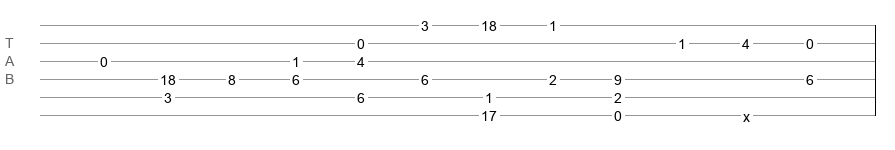0: (100, 54, 108, 64), (357, 36, 365, 46), (614, 108, 622, 118), (806, 36, 814, 46)
1: (292, 54, 300, 64), (485, 90, 493, 100), (549, 18, 557, 28), (678, 36, 686, 46)
17: (481, 108, 497, 118)
18: (160, 72, 176, 82), (481, 18, 497, 28)
2: (549, 72, 557, 82), (614, 90, 622, 100)
3: (164, 90, 172, 100), (421, 18, 429, 28)
4: (357, 54, 365, 64), (742, 36, 750, 46)
6: (292, 72, 300, 82), (357, 90, 365, 100), (421, 72, 429, 82), (806, 72, 814, 82)
8: (228, 72, 236, 82)
9: (614, 72, 622, 82)
x: (743, 109, 750, 117)
